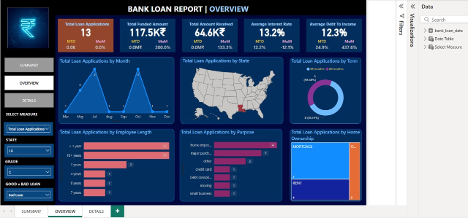

The dashboard page shown, as its layout file describes it:
{"tool":"powerbi","page":{"name":"OVERVIEW","canvas":[1280,720],"ordinal":1},"visuals":[{"type":"shape","box":[0,55,192.5,665],"z":0},{"type":"shape","box":[0,0,1281,54.8],"z":1000},{"type":"textbox","box":[440.5,8.3,448.8,46.4],"z":2000},{"type":"shape","box":[852.8,66.4,195.1,117.1],"z":3000,"group":"g4"},{"type":"shape","box":[201.2,66.7,195.1,117.1],"z":3000,"group":"g1"},{"type":"shape","box":[418.4,66.7,195.1,117.1],"z":3000,"group":"g2"},{"type":"shape","box":[635.6,66.7,195.1,117.1],"z":3000,"group":"g3"},{"type":"shape","box":[1070.2,66.7,195.1,117.1],"z":3000,"group":"g5"},{"type":"shape","box":[203.6,200,405,235],"z":3000},{"type":"group","id":"g1","title":"Group 1","box":[201.2,66.7,195.2,117.9],"z":4000},{"type":"card","fields":{"Values":["bank_loan_data.Avg Interest Rate"]},"box":[874.8,84.7,152.4,53.7],"z":4000,"group":"g4"},{"type":"card","fields":{"Values":["bank_loan_data.Total Loan Applications"]},"box":[223.2,85,152.4,53.7],"z":4000,"group":"g1"},{"type":"card","fields":{"Values":["bank_loan_data.Total Funded Amount"]},"box":[440.4,85,152.4,53.7],"z":4000,"group":"g2"},{"type":"card","fields":{"Values":["bank_loan_data.Total Amount Received"]},"box":[657.6,85,152.4,53.7],"z":4000,"group":"g3"},{"type":"card","fields":{"Values":["bank_loan_data.Avg DTI"]},"box":[1092.2,85,152.4,53.7],"z":4000,"group":"g5"},{"type":"group","id":"g2","title":"Group 1","box":[418.4,66.7,195.2,117.1],"z":5000},{"type":"textbox","box":[873,69.7,175,28.6],"z":5000,"group":"g4"},{"type":"textbox","box":[221.4,70,175,28.6],"z":5000,"group":"g1"},{"type":"textbox","box":[438.6,70,175,28.6],"z":5000,"group":"g2"},{"type":"textbox","box":[655.8,70,175,28.6],"z":5000,"group":"g3"},{"type":"textbox","box":[1077.1,70.7,185.7,35.7],"z":5000,"group":"g5"},{"type":"card","title":"MTD","fields":{"Values":["bank_loan_data.MTD Avd Interest Rate"]},"box":[871.3,135.8,71.4,47.6],"z":6000,"group":"g4"},{"type":"card","title":"MTD","fields":{"Values":["bank_loan_data.MTD Funded Amount"]},"box":[436.9,136.1,71.4,47.6],"z":6000,"group":"g2"},{"type":"card","title":"MTD","fields":{"Values":["bank_loan_data.MTD Total Amount Received"]},"box":[654.1,136.1,71.4,47.6],"z":6000,"group":"g3"},{"type":"card","title":"MTD","fields":{"Values":["bank_loan_data.MTD Avg DTI"]},"box":[1088.7,136.1,71.4,47.6],"z":6000,"group":"g5"},{"type":"card","title":"MTD","fields":{"Values":["bank_loan_data.MTD Loan Applications"]},"box":[223.2,136.2,50,47.6],"z":6000,"group":"g1"},{"type":"textbox","box":[13.8,476.2,62.5,28.8],"z":6000},{"type":"group","id":"g3","title":"Group 1","box":[635.6,66.7,195.2,117.9],"z":7000},{"type":"card","title":"MoM","fields":{"Values":["bank_loan_data.MoM Avg Interest Rate"]},"box":[968.9,135.8,67.9,47.6],"z":7000,"group":"g4"},{"type":"card","title":"MoM","fields":{"Values":["bank_loan_data.MoM Total Funded Amount"]},"box":[534.5,136.1,67.9,47.6],"z":7000,"group":"g2"},{"type":"card","title":"MoM","fields":{"Values":["bank_loan_data.MoM Total Amount Received"]},"box":[751.7,136.1,67.9,47.6],"z":7000,"group":"g3"},{"type":"card","title":"MoM","fields":{"Values":["bank_loan_data.MoM Avg DTI"]},"box":[1186.3,136.1,67.9,47.6],"z":7000,"group":"g5"},{"type":"card","title":"MoM","fields":{"Values":["bank_loan_data.MoM Loan Applications"]},"box":[325.6,136.2,50,47.6],"z":7000,"group":"g1"},{"type":"group","id":"g4","title":"Group 1","box":[852.8,66.4,195.5,117],"z":8000},{"type":"group","id":"g5","title":"Group 1","box":[1070.2,66.7,195.1,117.1],"z":9000},{"type":"slicer","fields":{"Values":["bank_loan_data.address_state"]},"box":[13.8,505,172.5,47.5],"z":10000},{"type":"slicer","fields":{"Values":["bank_loan_data.grade"]},"box":[13.8,580,172.5,47.5],"z":11000},{"type":"textbox","box":[12.5,552.5,62.5,27.5],"z":12000},{"type":"textbox","box":[12.5,631,161.9,28.6],"z":13000},{"type":"slicer","fields":{"Values":["bank_loan_data.Good v Bad Loan"]},"box":[12.5,659.6,172.6,46.4],"z":14000},{"type":"areaChart","fields":{"Y":["bank_loan_data.Total Loan Applications"],"Category":["Date Table.Month"]},"box":[203.6,202.4,404.8,234.5],"z":15000},{"type":"slicer","fields":{"Values":["Select Measure.Select Measure"]},"box":[12.5,428.8,172.5,47.5],"z":16000},{"type":"textbox","box":[13.8,387.5,137.5,28.8],"z":17000},{"type":"shape","box":[629.3,200,360,235.4],"z":18000},{"type":"shapeMap","fields":{"Value":["bank_loan_data.Total Loan Applications"],"Category":["bank_loan_data.address_state"]},"box":[633.3,201.2,353.6,234.5],"z":19000},{"type":"shape","box":[1013.1,202.4,250,232.1],"z":20000},{"type":"donutChart","fields":{"Y":["bank_loan_data.Total Loan Applications"],"Category":["bank_loan_data.term"]},"box":[1013.1,202.4,250,232.1],"z":21000},{"type":"shape","box":[203.6,452.4,406,254.8],"z":22000},{"type":"barChart","fields":{"Y":["bank_loan_data.Total Loan Applications"],"Category":["bank_loan_data.emp_length"]},"box":[203.6,452.4,406,254.8],"z":23000},{"type":"shape","box":[627.4,452.4,359.5,254.8],"z":24000},{"type":"barChart","fields":{"Y":["bank_loan_data.Total Loan Applications"],"Category":["bank_loan_data.purpose"]},"box":[627.4,452.4,359.5,254.8],"z":25000},{"type":"shape","box":[1013.1,452.4,252.4,254.8],"z":26000},{"type":"treemap","fields":{"Values":["bank_loan_data.Total Loan Applications"],"Group":["bank_loan_data.home_ownership"]},"box":[1013.1,452.4,250,254.8],"z":27000},{"type":"pageNavigator","box":[13.8,202.5,173.8,178.8],"z":28000},{"type":"image","box":[18.8,22.5,156.2,152.5],"z":29000}]}

Visuals, with their boxes on the page's 1280x720 design canvas (x1, y1, x2, y2). These are canvas units, not pixel positions in the 468x218 screenshot, which may show the page scaled, cropped or inside an application window:
shape: <region>0, 55, 192, 720</region>
shape: <region>0, 0, 1281, 55</region>
textbox: <region>440, 8, 889, 55</region>
shape: <region>853, 66, 1048, 184</region>
shape: <region>201, 67, 396, 184</region>
shape: <region>418, 67, 614, 184</region>
shape: <region>636, 67, 831, 184</region>
shape: <region>1070, 67, 1265, 184</region>
shape: <region>204, 200, 609, 435</region>
"Group 1" group: <region>201, 67, 396, 185</region>
card - bank_loan_data.Avg Interest Rate: <region>875, 85, 1027, 138</region>
card - bank_loan_data.Total Loan Applications: <region>223, 85, 376, 139</region>
card - bank_loan_data.Total Funded Amount: <region>440, 85, 593, 139</region>
card - bank_loan_data.Total Amount Received: <region>658, 85, 810, 139</region>
card - bank_loan_data.Avg DTI: <region>1092, 85, 1245, 139</region>
"Group 1" group: <region>418, 67, 614, 184</region>
textbox: <region>873, 70, 1048, 98</region>
textbox: <region>221, 70, 396, 99</region>
textbox: <region>439, 70, 614, 99</region>
textbox: <region>656, 70, 831, 99</region>
textbox: <region>1077, 71, 1263, 106</region>
"MTD" card: <region>871, 136, 943, 183</region>
"MTD" card: <region>437, 136, 508, 184</region>
"MTD" card: <region>654, 136, 726, 184</region>
"MTD" card: <region>1089, 136, 1160, 184</region>
"MTD" card: <region>223, 136, 273, 184</region>
textbox: <region>14, 476, 76, 505</region>
"Group 1" group: <region>636, 67, 831, 185</region>
"MoM" card: <region>969, 136, 1037, 183</region>
"MoM" card: <region>534, 136, 602, 184</region>
"MoM" card: <region>752, 136, 820, 184</region>
"MoM" card: <region>1186, 136, 1254, 184</region>
"MoM" card: <region>326, 136, 376, 184</region>
"Group 1" group: <region>853, 66, 1048, 183</region>
"Group 1" group: <region>1070, 67, 1265, 184</region>
slicer - bank_loan_data.address_state: <region>14, 505, 186, 552</region>
slicer - bank_loan_data.grade: <region>14, 580, 186, 628</region>
textbox: <region>12, 552, 75, 580</region>
textbox: <region>12, 631, 174, 660</region>
slicer - bank_loan_data.Good v Bad Loan: <region>12, 660, 185, 706</region>
areaChart - bank_loan_data.Total Loan Applications x Date Table.Month: <region>204, 202, 608, 437</region>
slicer - Select Measure.Select Measure: <region>12, 429, 185, 476</region>
textbox: <region>14, 388, 151, 416</region>
shape: <region>629, 200, 989, 435</region>
shapeMap - bank_loan_data.Total Loan Applications x bank_loan_data.address_state: <region>633, 201, 987, 436</region>
shape: <region>1013, 202, 1263, 434</region>
donutChart - bank_loan_data.Total Loan Applications x bank_loan_data.term: <region>1013, 202, 1263, 434</region>
shape: <region>204, 452, 610, 707</region>
barChart - bank_loan_data.Total Loan Applications x bank_loan_data.emp_length: <region>204, 452, 610, 707</region>
shape: <region>627, 452, 987, 707</region>
barChart - bank_loan_data.Total Loan Applications x bank_loan_data.purpose: <region>627, 452, 987, 707</region>
shape: <region>1013, 452, 1266, 707</region>
treemap - bank_loan_data.Total Loan Applications x bank_loan_data.home_ownership: <region>1013, 452, 1263, 707</region>
pageNavigator: <region>14, 202, 188, 381</region>
image: <region>19, 22, 175, 175</region>
